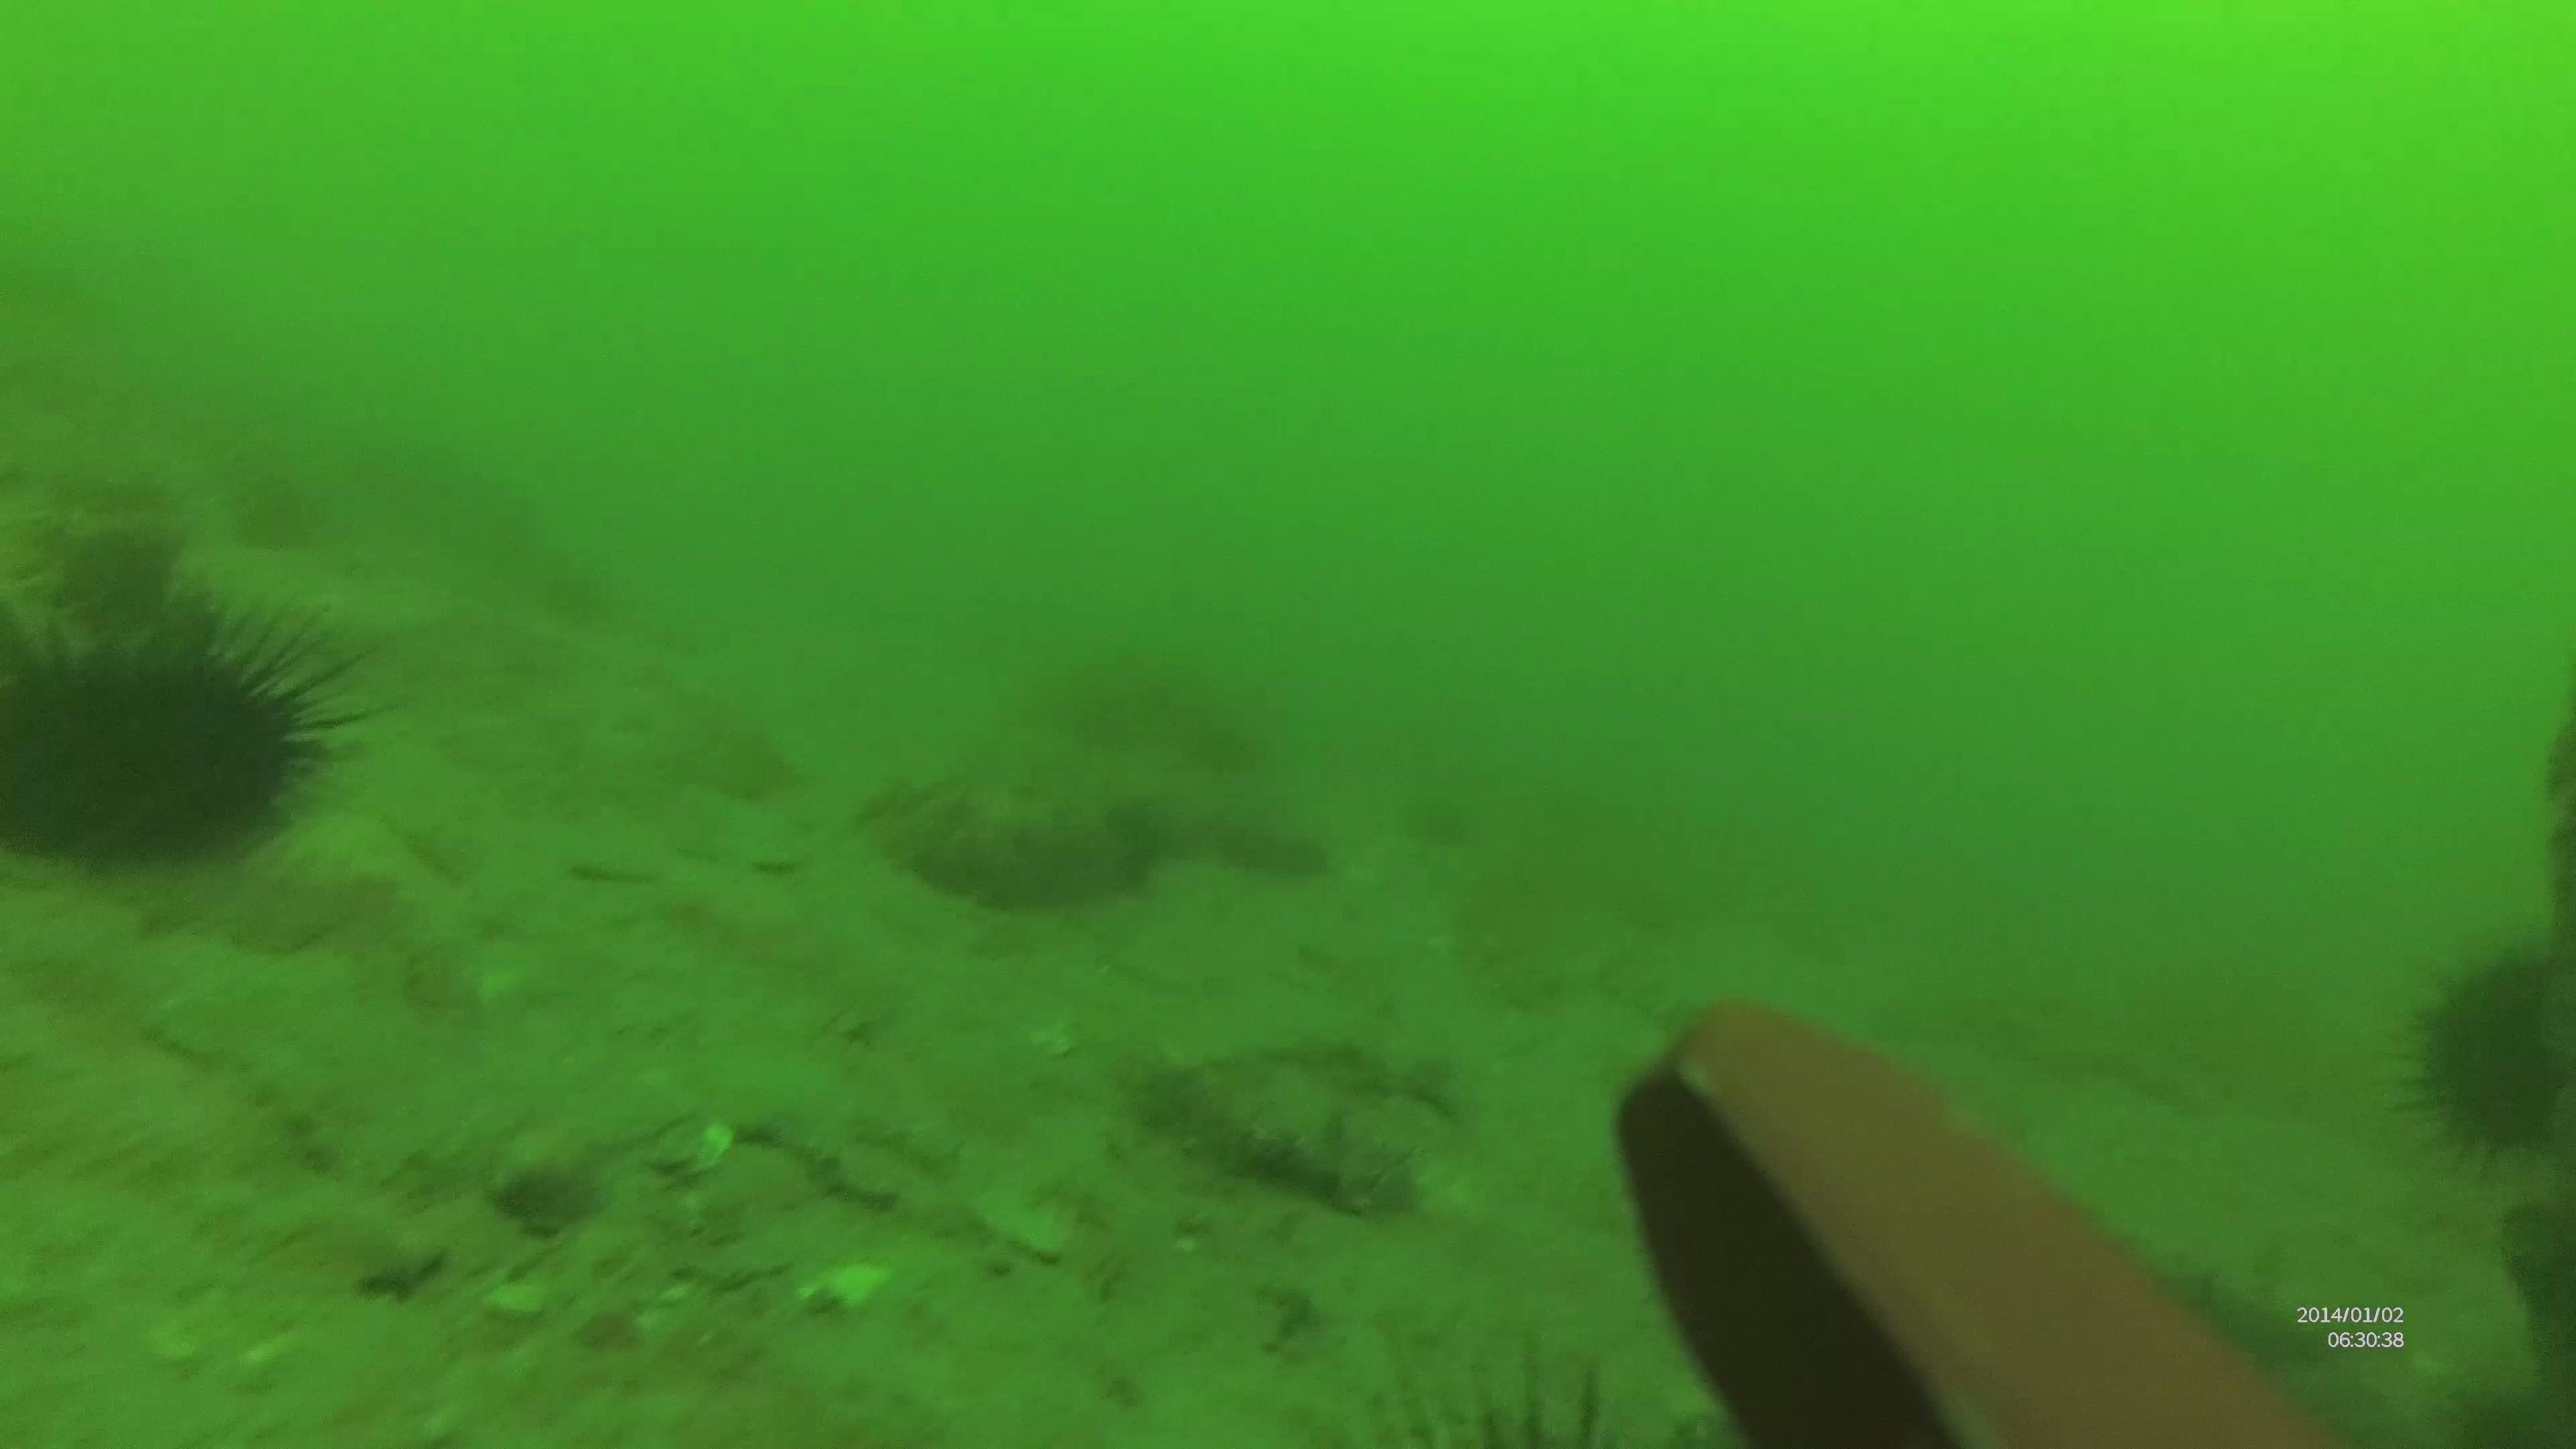echinus: (0, 596, 372, 883), (2396, 932, 2576, 1162)
